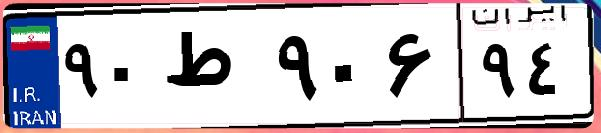0: (330, 28, 385, 110), (110, 28, 158, 98)
4: (525, 38, 570, 115)
6: (385, 28, 445, 110)
9: (270, 28, 330, 110), (57, 26, 110, 100), (475, 38, 525, 113)
ط: (158, 20, 270, 120)
